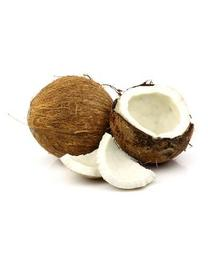coconut: (26, 73, 110, 158), (111, 83, 193, 165)
